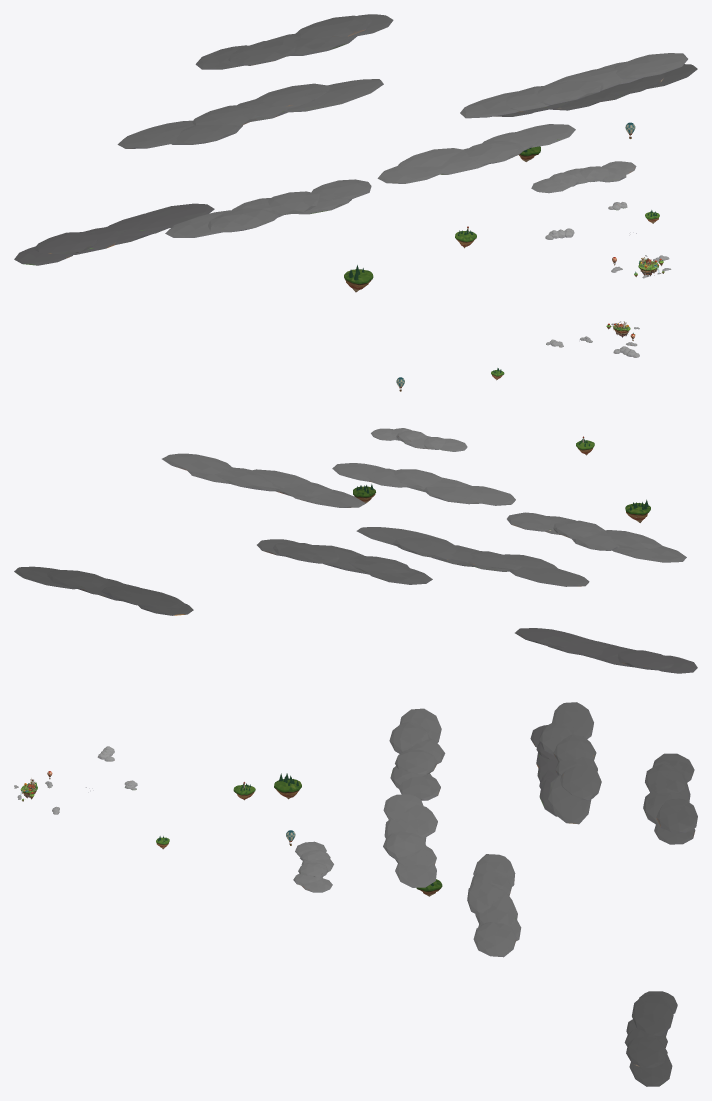
The picture shows the model from 3 angles, top to bottom: view 1: azimuth 30°, elevation 25°; view 2: azimuth 150°, elevation 25°; view 3: azimuth 270°, elevation 25°; orthographic projection. The views are drawn at different scales.
Visible parts, largest first — view 1: s2_v2; view 2: s2_v2; view 3: s2_v2.
Boxes of the visible parts, x1,y1,x2,y2 form: s2_v2: [14, 14, 697, 292]; s2_v2: [14, 321, 697, 673]; s2_v2: [14, 702, 697, 1086].
Bounding box in the file's own units: 569 × 112 × 483.
Materials: 11 (11 with a texture image).
